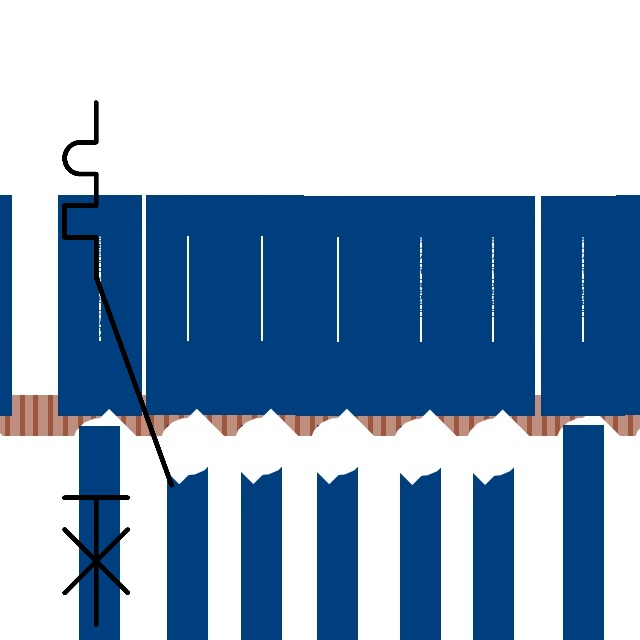interruptor_termomagnetico: (51, 89, 185, 638)
